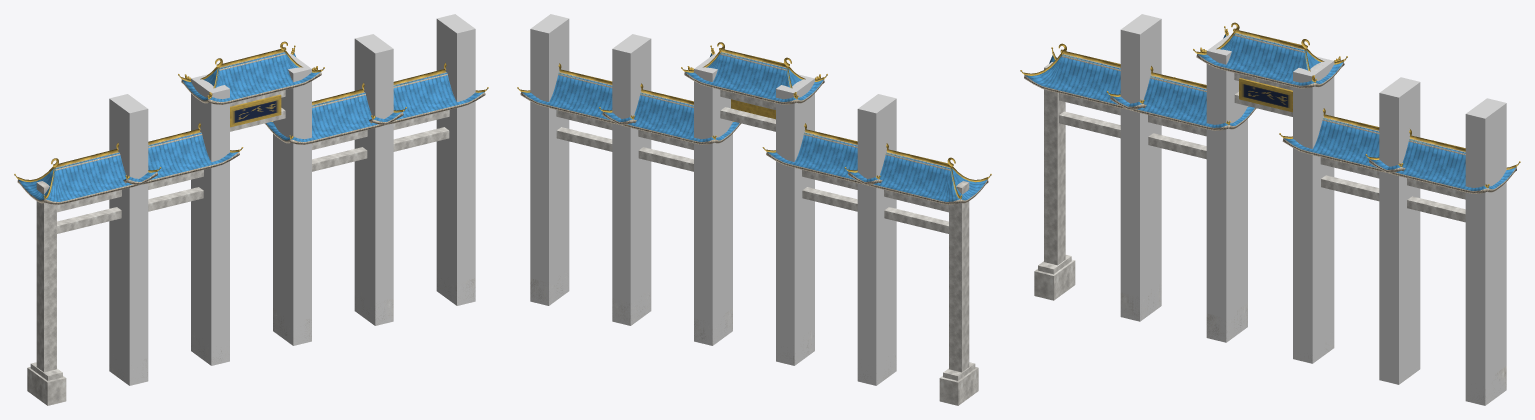
File: gate_of_heaven.glb
3 renders of one model, left to right at view 1: azimuth 30°, elevation 25°; view 2: azimuth 150°, elevation 25°; view 3: azimuth 330°, elevation 25°, orthographic. The views are drawn at different scales.
Visible parts, largest first — view 1: HeavenGatePier-convcolonly.005, HeavenGatePier-convcolonly.001, HeavenGatePier-convcolonly.004, HeavenGatePier-convcolonly.003, HeavenGatePier-convcolonly.002, HeavenGateBeams, HeavenGatePillars, HeavenGateR0Roof, HeavenGateR2Roof, HeavenGateR3Roof, HeavenGateR4Roof, HeavenGateR1Roof (+4 smaller); view 2: HeavenGatePier-convcolonly.005, HeavenGatePier-convcolonly.001, HeavenGatePier-convcolonly.004, HeavenGatePier-convcolonly.003, HeavenGatePier-convcolonly.002, HeavenGateBeams, HeavenGatePillars, HeavenGateR0Roof, HeavenGateR2Roof, HeavenGateR3Roof, HeavenGatePlinths, HeavenGateR4Roof (+4 smaller); view 3: HeavenGatePier-convcolonly.005, HeavenGatePier-convcolonly.004, HeavenGatePier-convcolonly.001, HeavenGatePier-convcolonly.002, HeavenGatePier-convcolonly.003, HeavenGateBeams, HeavenGatePillars, HeavenGateR2Roof, HeavenGateR0Roof, HeavenGateR4Roof, HeavenGateR1Roof, HeavenGateR3Roof (+4 smaller).
Part boxes in pixels (x1=…): HeavenGatePier-convcolonly.005: x1=436, y1=14, x2=475, y2=305; HeavenGatePier-convcolonly.001: x1=109, y1=94, x2=148, y2=385; HeavenGatePier-convcolonly.004: x1=354, y1=34, x2=393, y2=325; HeavenGatePier-convcolonly.003: x1=273, y1=54, x2=311, y2=345; HeavenGatePier-convcolonly.002: x1=191, y1=74, x2=229, y2=365; HeavenGateBeams: x1=57, y1=90, x2=449, y2=233; HeavenGatePillars: x1=36, y1=64, x2=301, y2=372; HeavenGateR0Roof: x1=17, y1=152, x2=157, y2=204; HeavenGateR2Roof: x1=181, y1=52, x2=321, y2=104; HeavenGateR3Roof: x1=264, y1=92, x2=403, y2=144; HeavenGateR4Roof: x1=369, y1=72, x2=485, y2=124; HeavenGateR1Roof: x1=123, y1=132, x2=239, y2=184; HeavenGatePier-convcolonly.005: x1=530, y1=14, x2=569, y2=305; HeavenGatePier-convcolonly.001: x1=857, y1=94, x2=896, y2=385; HeavenGatePier-convcolonly.004: x1=612, y1=34, x2=651, y2=325; HeavenGatePier-convcolonly.003: x1=694, y1=54, x2=732, y2=345; HeavenGatePier-convcolonly.002: x1=776, y1=74, x2=814, y2=365; HeavenGateBeams: x1=556, y1=90, x2=948, y2=233; HeavenGatePillars: x1=703, y1=61, x2=969, y2=372; HeavenGateR0Roof: x1=848, y1=152, x2=988, y2=204; HeavenGateR2Roof: x1=684, y1=52, x2=824, y2=104; HeavenGateR3Roof: x1=602, y1=92, x2=741, y2=144; HeavenGatePlinths: x1=530, y1=270, x2=978, y2=405; HeavenGateR4Roof: x1=520, y1=72, x2=636, y2=124; HeavenGatePier-convcolonly.005: x1=1465, y1=98, x2=1506, y2=405; HeavenGatePier-convcolonly.004: x1=1379, y1=77, x2=1420, y2=384; HeavenGatePier-convcolonly.001: x1=1120, y1=14, x2=1161, y2=321; HeavenGatePier-convcolonly.002: x1=1206, y1=35, x2=1247, y2=342; HeavenGatePier-convcolonly.003: x1=1293, y1=56, x2=1334, y2=363; HeavenGateBeams: x1=1059, y1=73, x2=1465, y2=222; HeavenGatePillars: x1=1044, y1=40, x2=1323, y2=265; HeavenGateR2Roof: x1=1196, y1=33, x2=1344, y2=88; HeavenGateR0Roof: x1=1024, y1=54, x2=1146, y2=109; HeavenGateR4Roof: x1=1369, y1=138, x2=1516, y2=193; HeavenGateR1Roof: x1=1110, y1=75, x2=1256, y2=130; HeavenGateR3Roof: x1=1282, y1=117, x2=1405, y2=172.
Size of what is drawn, in the model's own units: 23.92 by 15.21 by 2.82.
6 materials, 6 textured.
